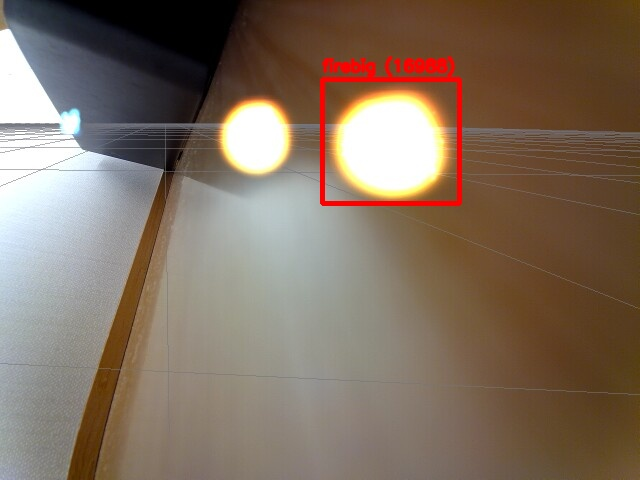firebig: (322, 79, 459, 203)
